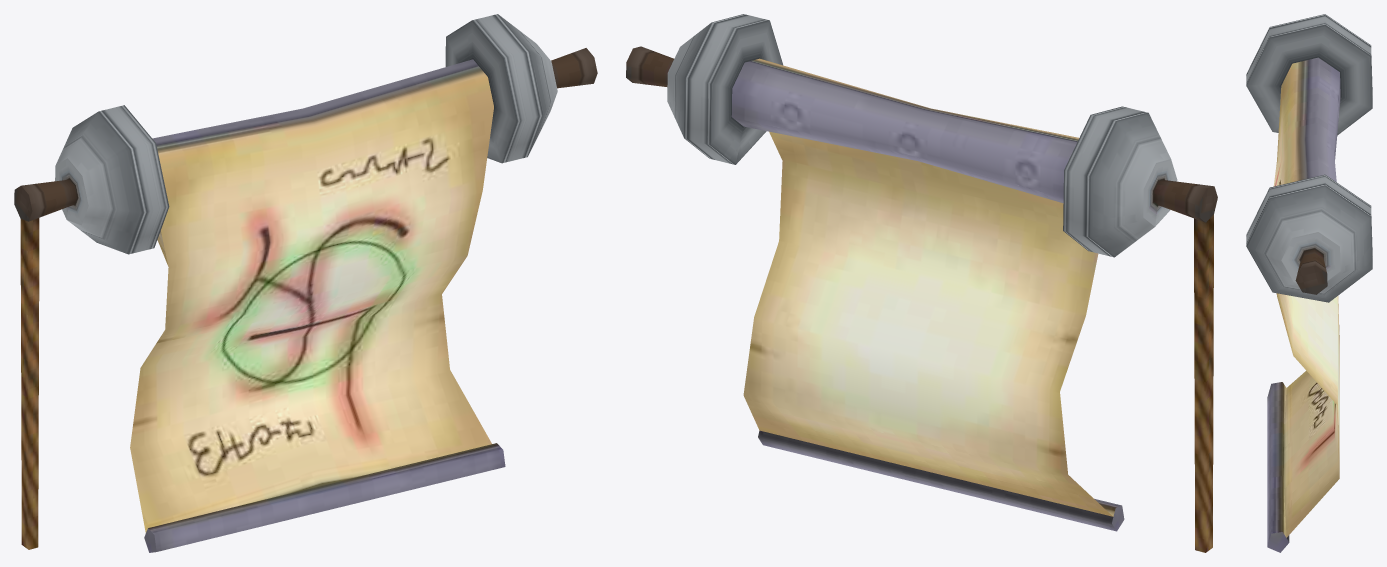
The model's file is Roll2.gltf.
The picture shows the model from 3 angles, left to right: view 1: azimuth 30°, elevation 25°; view 2: azimuth 150°, elevation 25°; view 3: azimuth 270°, elevation 25°; orthographic projection. The views are drawn at different scales.
Parts seen in each view (by area): view 1: scroll 2; view 2: scroll 2; view 3: scroll 2.
Boxes of the visible parts, x1,y1,x2,y2 form: scroll 2: (14, 14, 597, 552); scroll 2: (626, 14, 1217, 552); scroll 2: (1246, 14, 1372, 552).
Size of the model in its own units: 2.23 by 1.62 by 0.4906.
Materials: 1 (1 with a texture image).
